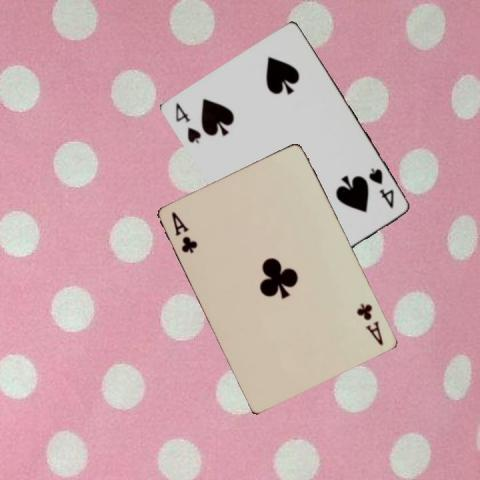4s: (366, 165, 396, 210), (172, 100, 202, 145)
Ac: (354, 300, 385, 346), (169, 208, 199, 255)
